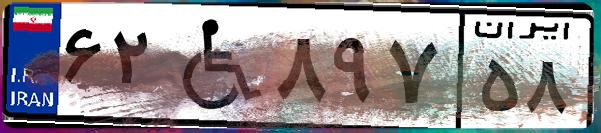2: (110, 28, 158, 98)
5: (475, 38, 525, 113)
6: (57, 26, 110, 100)
7: (385, 28, 445, 110)
8: (270, 28, 330, 110), (525, 38, 570, 115)
9: (330, 28, 385, 110)
ژ (معلولین و جانبازان): (158, 12, 270, 120)
